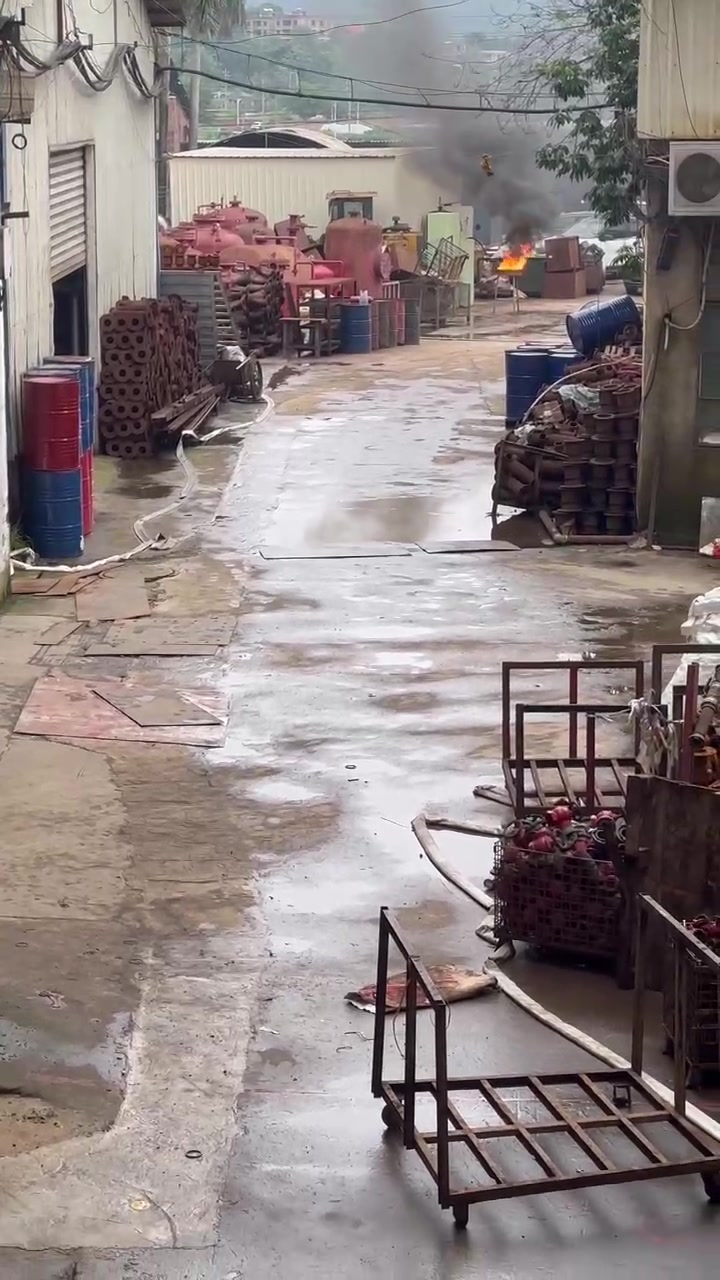fire: (497, 244, 530, 269)
